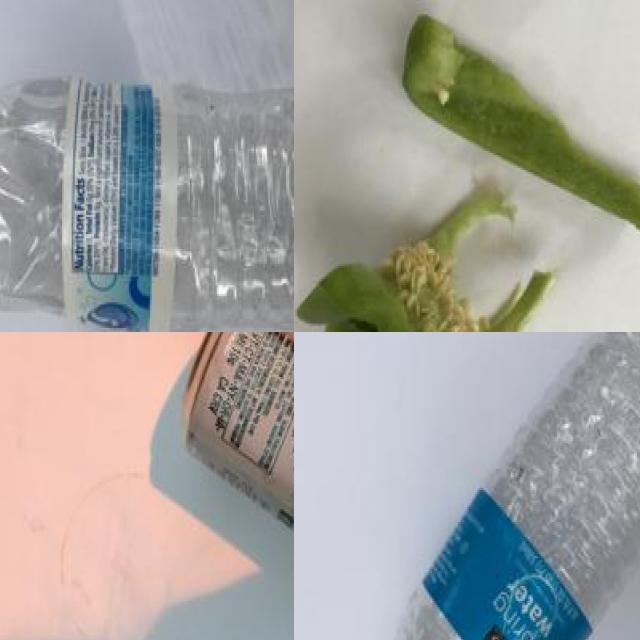compost: (297, 3, 640, 332)
plastic: (367, 332, 640, 640), (0, 62, 294, 332), (158, 332, 294, 640)
